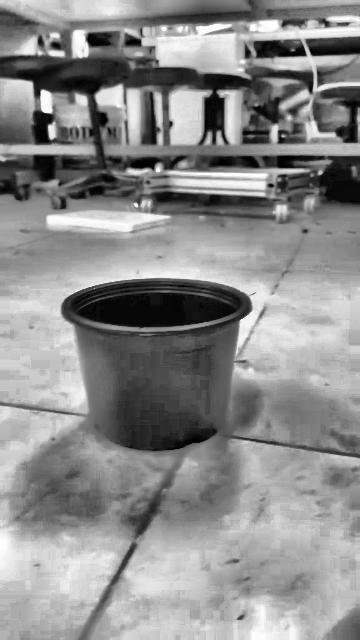pot: (62, 278, 249, 451)
